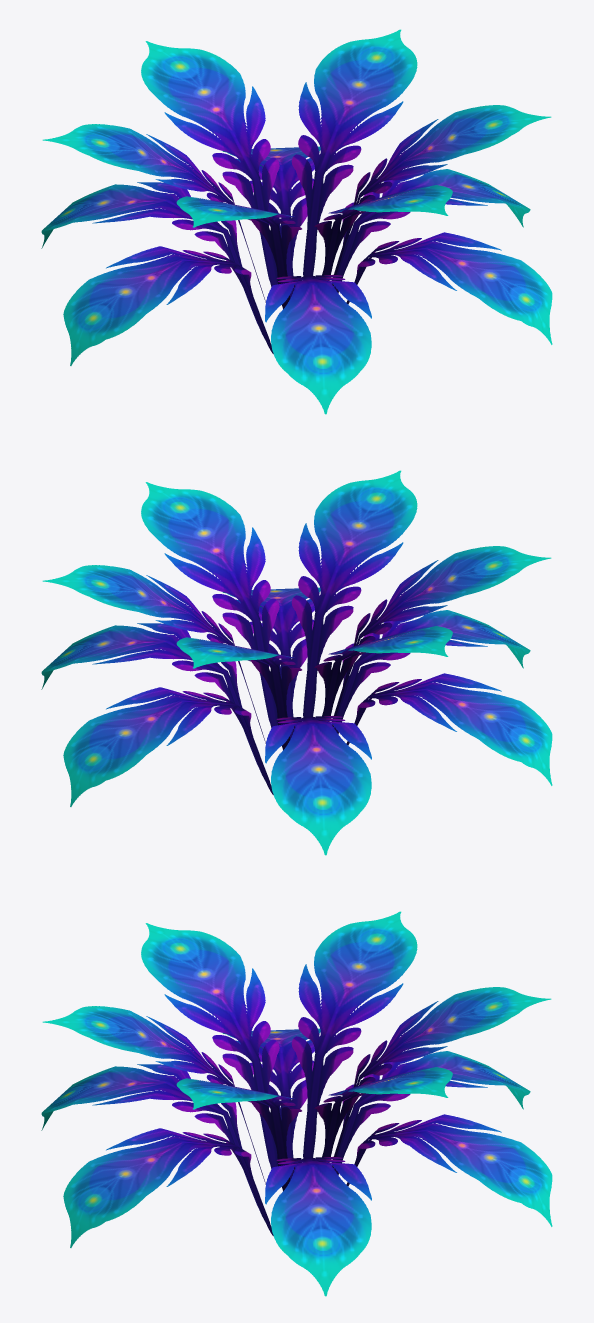
File: Bush_05.FBX
3 renders of one model, top to bottom at view 1: azimuth 30°, elevation 25°; view 2: azimuth 150°, elevation 25°; view 3: azimuth 270°, elevation 25°, orthographic.
Parts seen in each view (by area): view 1: Bush_05; view 2: Bush_05; view 3: Bush_05.
Boxes of the visible parts, bbox=[...] form: Bush_05: bbox=[41, 29, 552, 414]; Bush_05: bbox=[41, 470, 552, 855]; Bush_05: bbox=[41, 911, 552, 1296].
Bounding box in the file's own units: 188 × 84.95 × 185.
